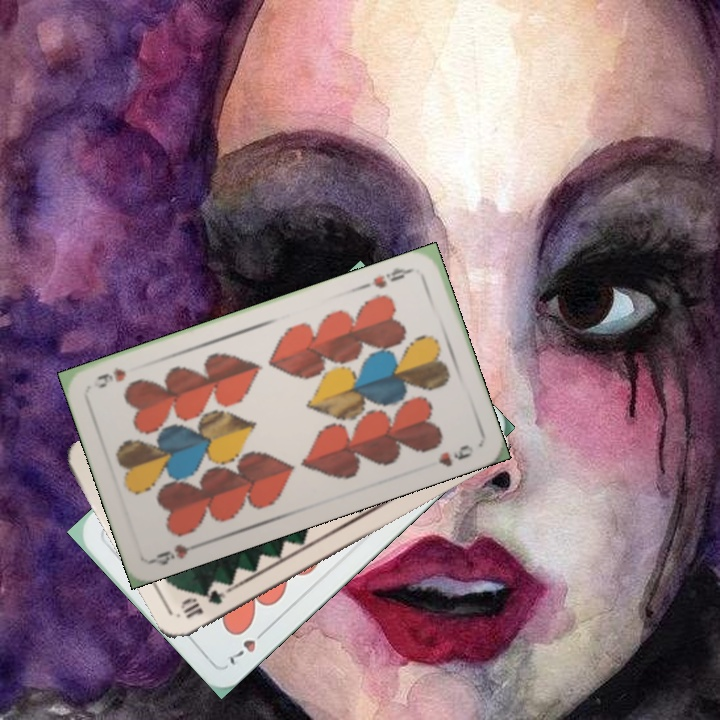G10: (176, 585, 229, 622)
H7: (223, 624, 271, 670)
H9: (148, 538, 206, 568), (360, 263, 417, 291)
